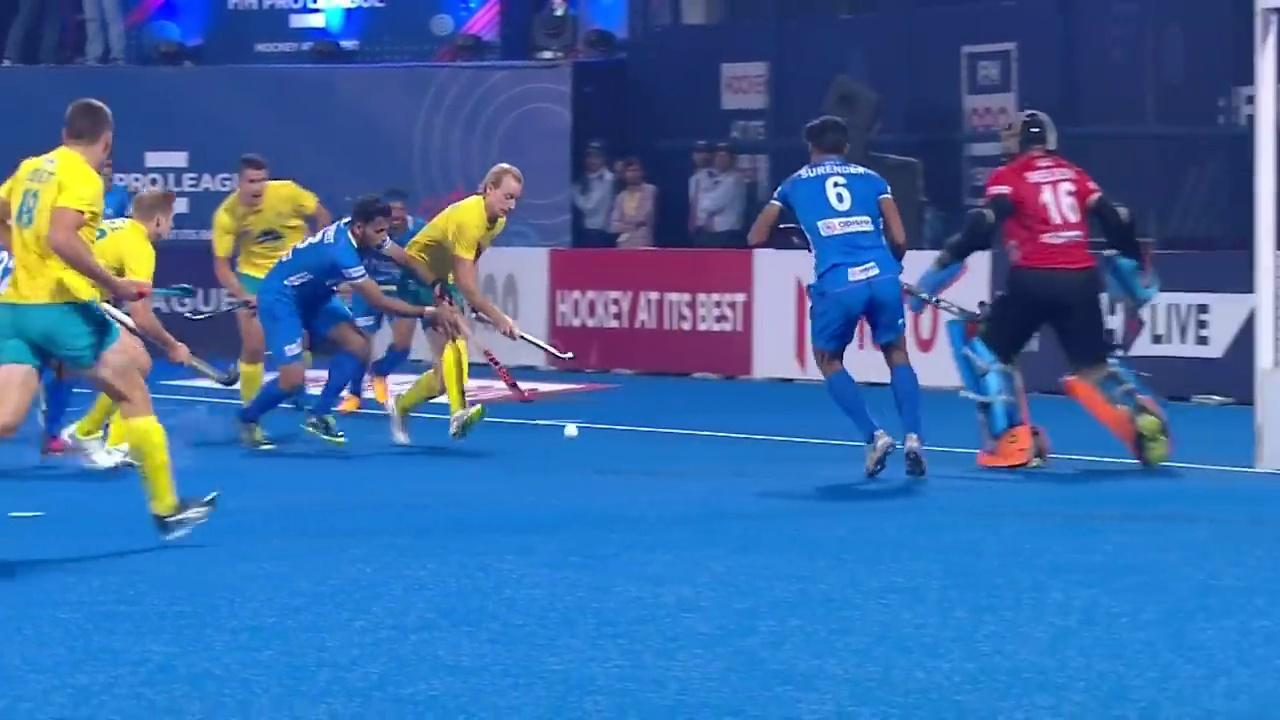ball: (550, 407, 596, 454)
